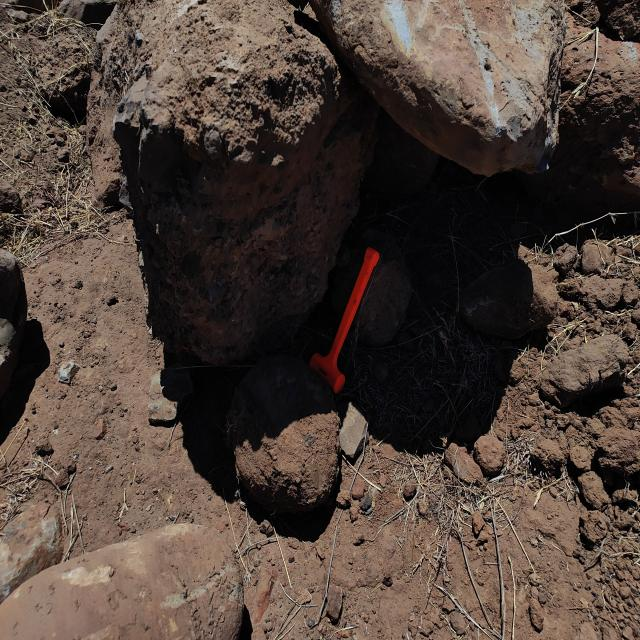Orange_hammer: (309, 246, 380, 394)
